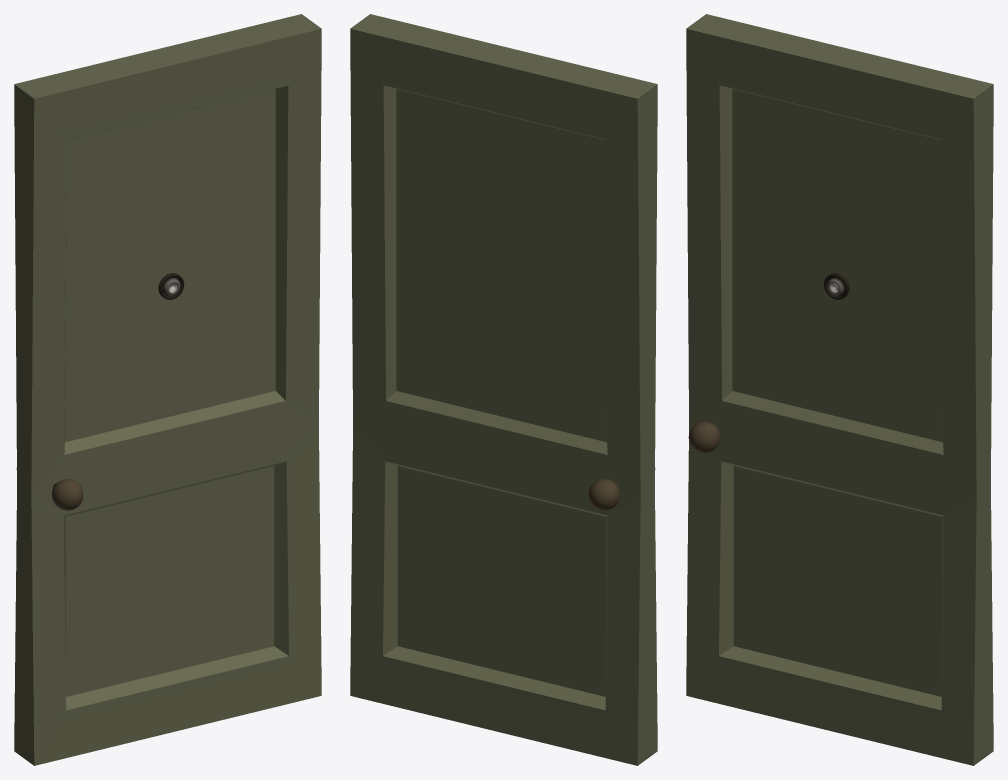
File: DoorWithEyes.fbx
The picture shows the model from 3 angles, left to right: view 1: azimuth 30°, elevation 25°; view 2: azimuth 150°, elevation 25°; view 3: azimuth 330°, elevation 25°; orthographic projection.
Visible parts, largest first — view 1: MainDoor; view 2: MainDoor; view 3: MainDoor.
Part boxes in pixels (x1,y1,x2,y2): MainDoor: (14,14,321,765); MainDoor: (350,14,657,765); MainDoor: (686,14,993,765).
Bounding box in the file's own units: 91.96 × 204 × 28.22.
Materials: 1 (1 with a texture image).
